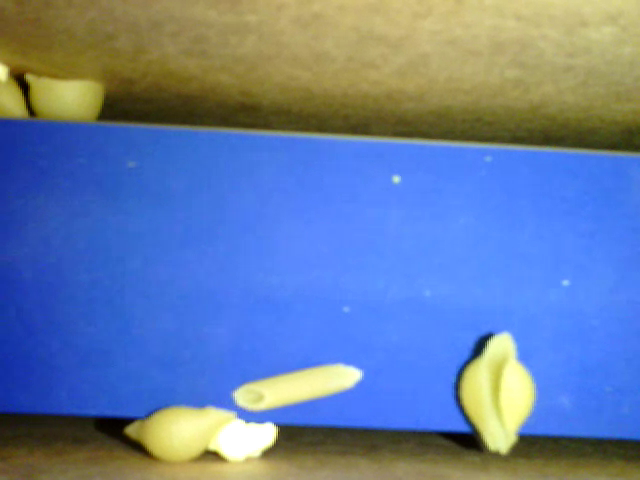penne: (229, 361, 364, 412)
shell: (454, 332, 536, 458), (126, 403, 236, 463), (25, 71, 106, 122)
